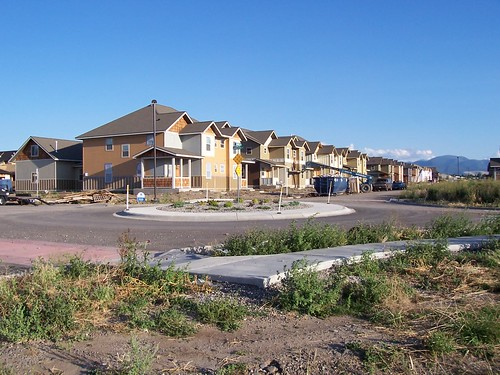building: (86, 94, 246, 191), (16, 134, 83, 192), (236, 130, 303, 188), (303, 141, 348, 179), (345, 150, 367, 176)
sky: (1, 1, 500, 144)
street: (6, 205, 468, 261)
